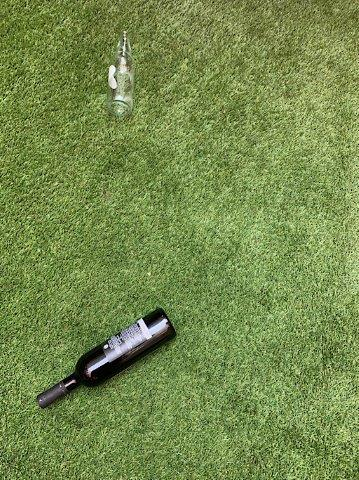botolkaca: (36, 309, 177, 408), (107, 34, 132, 113)
